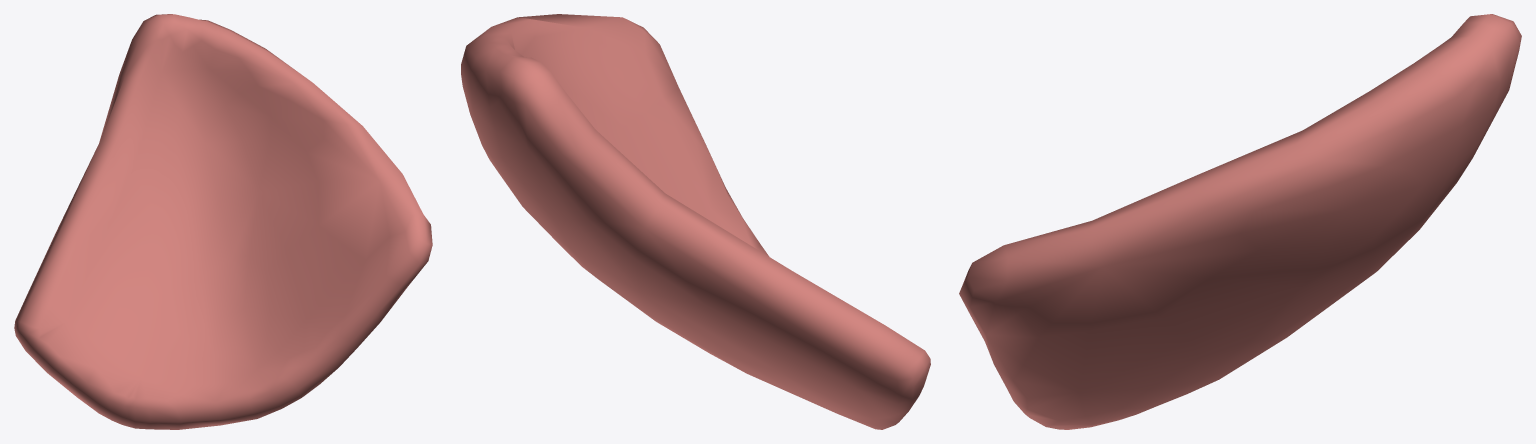
The picture shows the model from 3 angles, left to right: view 1: azimuth 30°, elevation 25°; view 2: azimuth 150°, elevation 25°; view 3: azimuth 270°, elevation 25°; orthographic projection. The views are drawn at different scales.
Visible parts, largest first — view 1: ZA_92d38368bd5fae0a; view 2: ZA_92d38368bd5fae0a; view 3: ZA_92d38368bd5fae0a.
Part boxes in pixels (x1,y1,x2,y2): ZA_92d38368bd5fae0a: (14,14,432,429); ZA_92d38368bd5fae0a: (461,14,930,429); ZA_92d38368bd5fae0a: (959,14,1521,429).
Size of the model in its own units: 0.00439 by 0.00389 by 0.00432.
